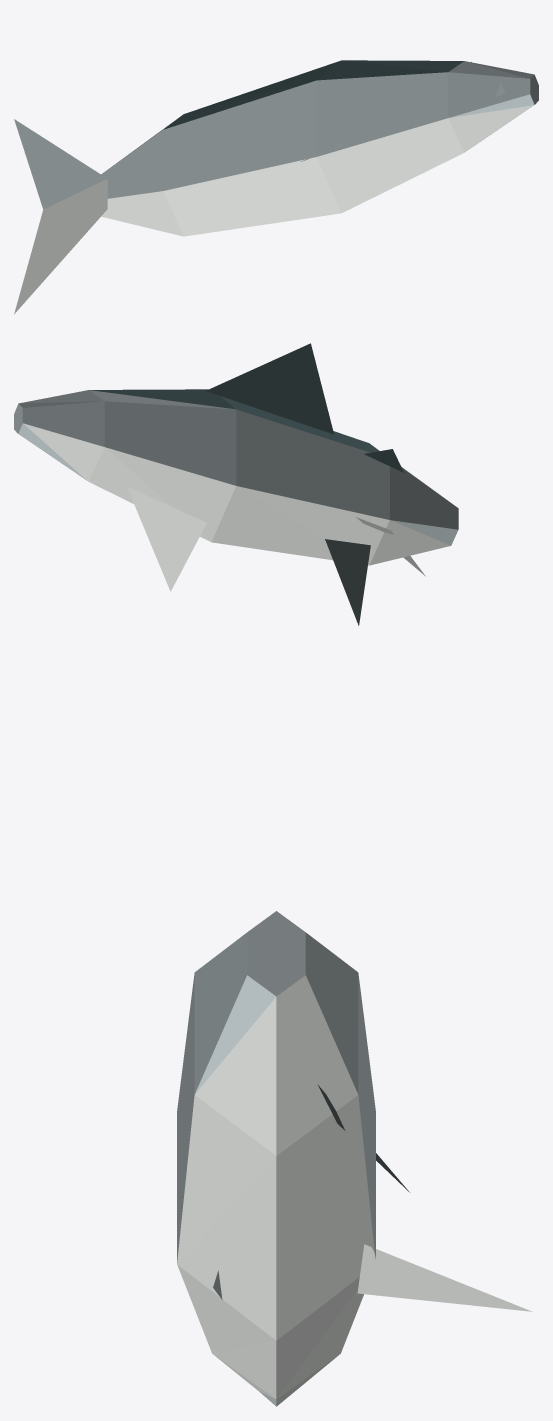
Rendered from salmon.glb.
The picture shows the model from 3 angles, top to bottom: view 1: azimuth 30°, elevation 25°; view 2: azimuth 150°, elevation 25°; view 3: azimuth 270°, elevation 25°; orthographic projection. The views are drawn at different scales.
Visible parts, largest first — view 1: salmon; view 2: salmon; view 3: salmon.
Boxes of the visible parts, x1,y1,x2,y2 form: salmon: [14, 60, 538, 314]; salmon: [14, 343, 458, 625]; salmon: [177, 911, 532, 1406].
Size of the model in its own units: 0.89 by 0.4 by 0.38.
